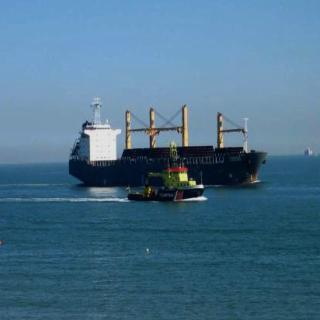Bulk Carrier: (68, 90, 269, 199)
